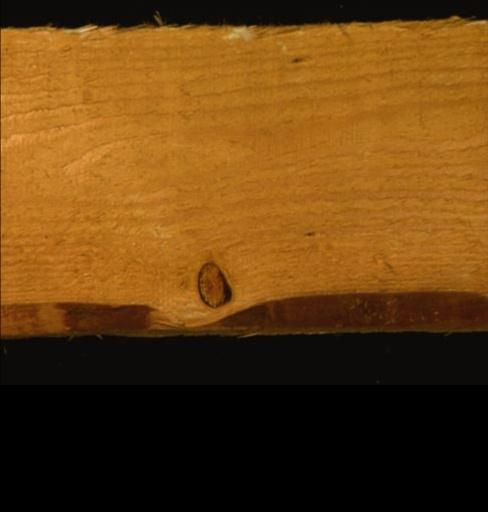dry_knot: (194, 258, 232, 307)
wave: (205, 273, 483, 334), (0, 293, 182, 332)
